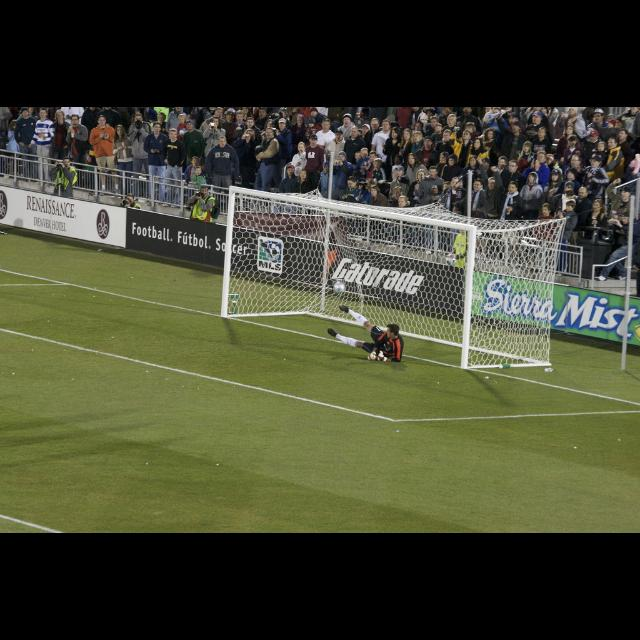Football: (332, 278, 344, 292)
